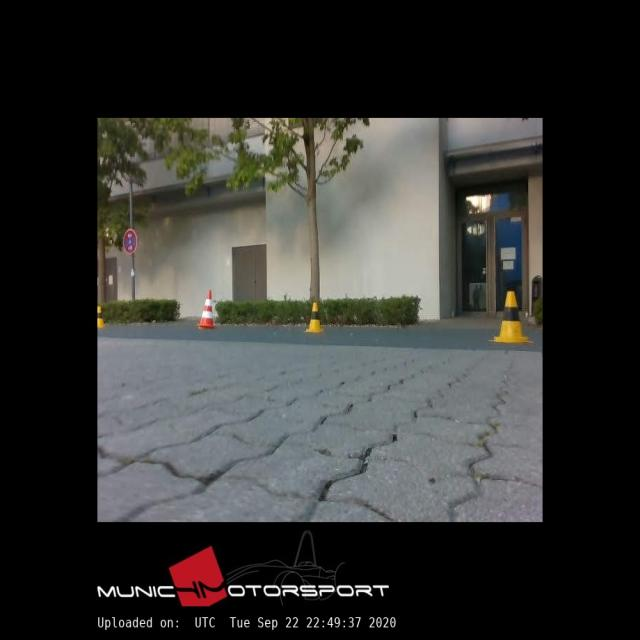large_orange_cone: (198, 290, 214, 328)
yellow_cone: (490, 291, 531, 343), (307, 303, 323, 332), (98, 306, 104, 326)
